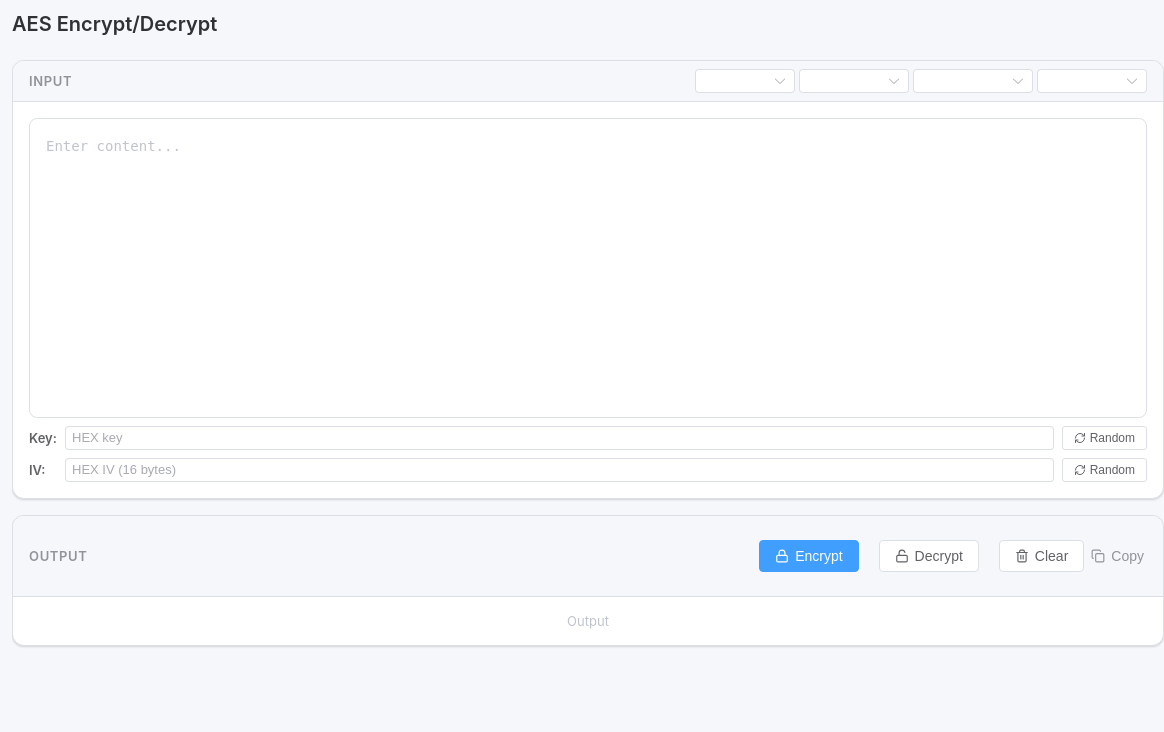
Test case: AesTool › should clear all fields
The width and height of the screenshot is (1164, 732).
Step 1. Type "test input" into the text box with placeholder "Enter content..." → (588, 268), box x1=29 y1=118 x2=1147 y2=418
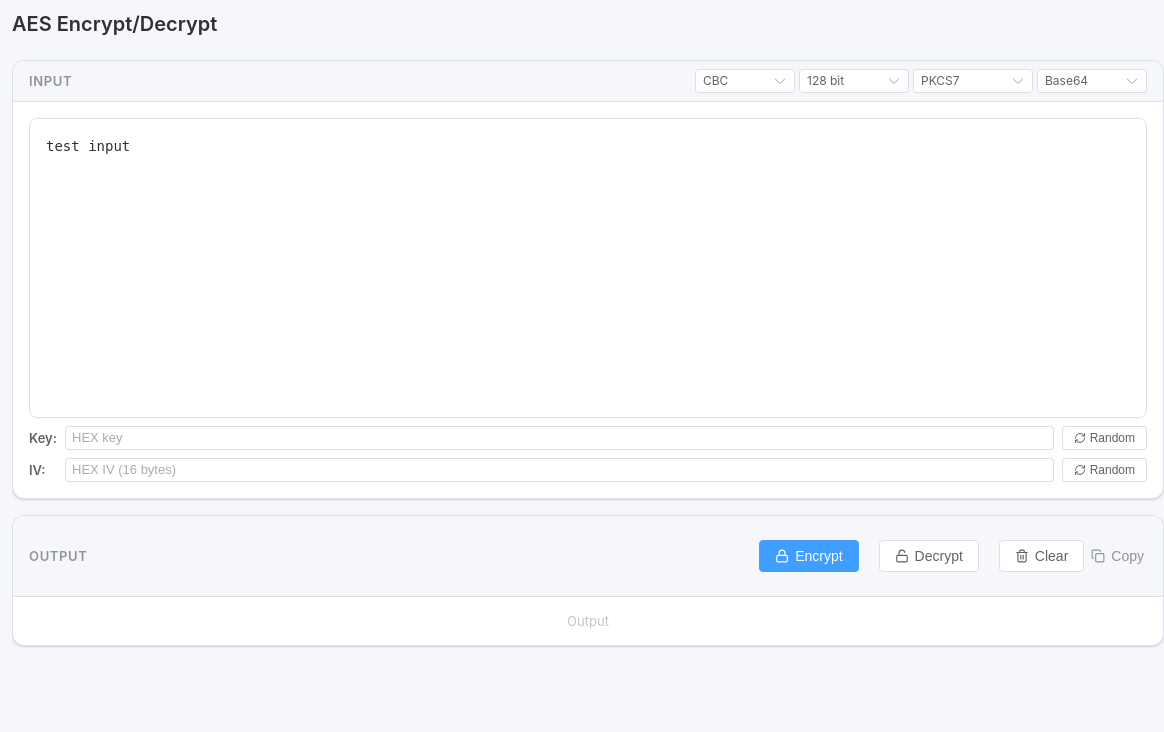
Step 2. Click the button "Clear" → (1042, 556), box x1=999 y1=540 x2=1084 y2=572
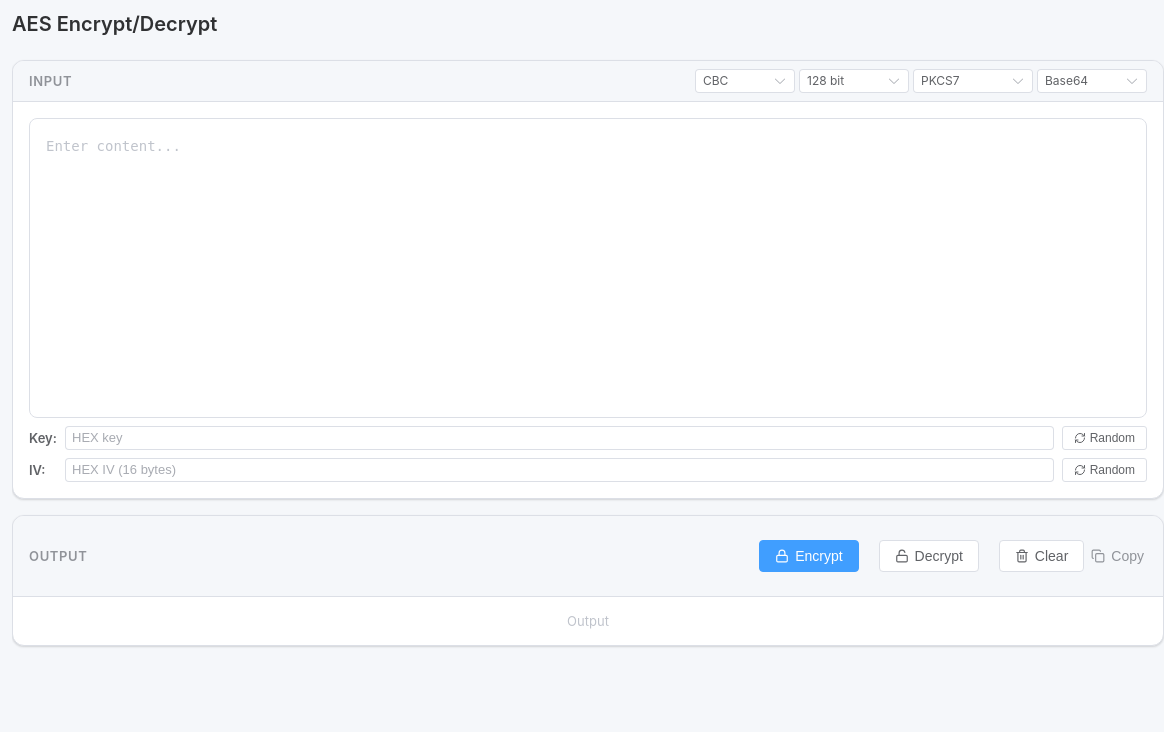
Result: the text box with placeholder "Enter content..." is empty at x1=29 y1=118 x2=1147 y2=418
